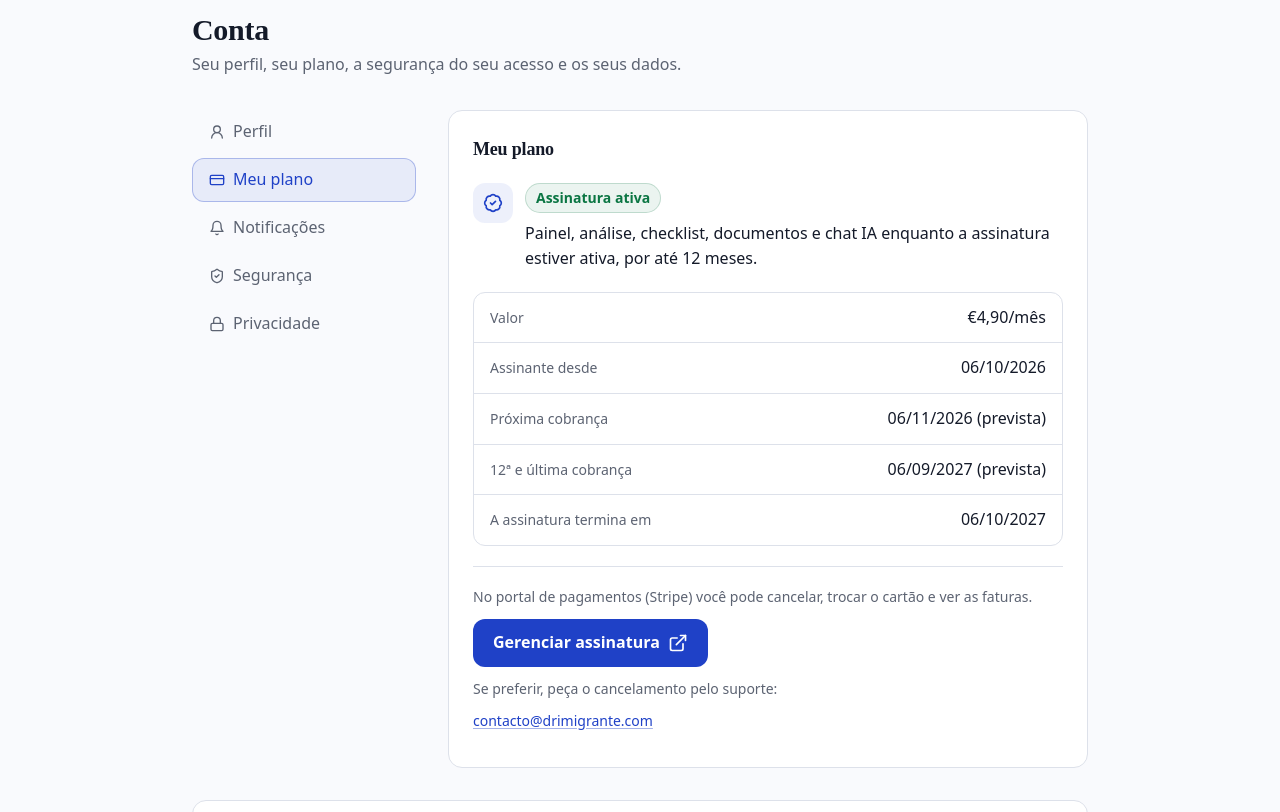
Test: SettingsPage — Meu plano › portal indisponível (function sem customer): mensagem amigável e o suporte continua visível
Click the button with test id "settings-portal-btn" at coordinates (590, 643), box 473,619 -> 708,667
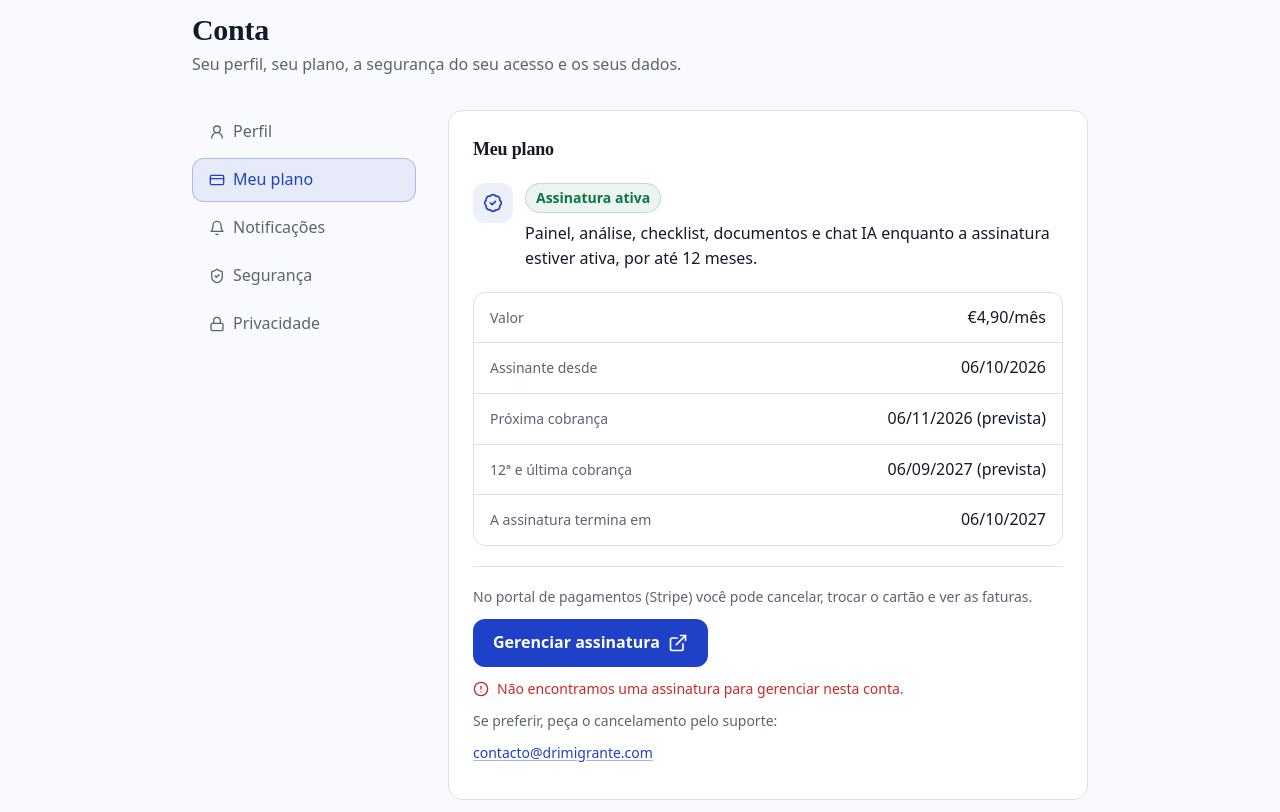
Result: the message with test id "settings-portal-error" shows "Não encontramos uma assinatura" at 497,679 -> 904,698
